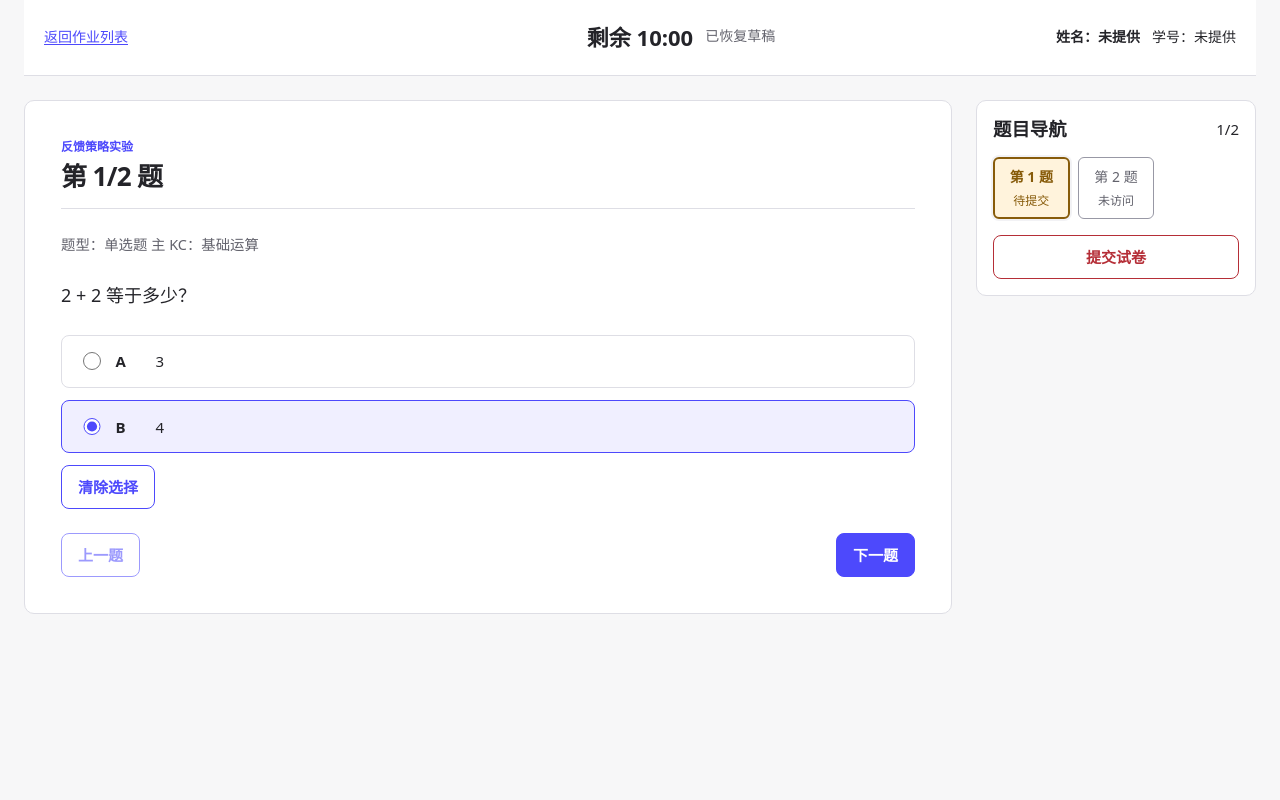
it: StudentAssessment › keeps the original navigation recoverable after its local pointer wait exceeds 60 seconds
Click the link "第 2 题 未访问". click: [1116, 188]
box: [1078,157,1154,219]
Wait 60000 ms
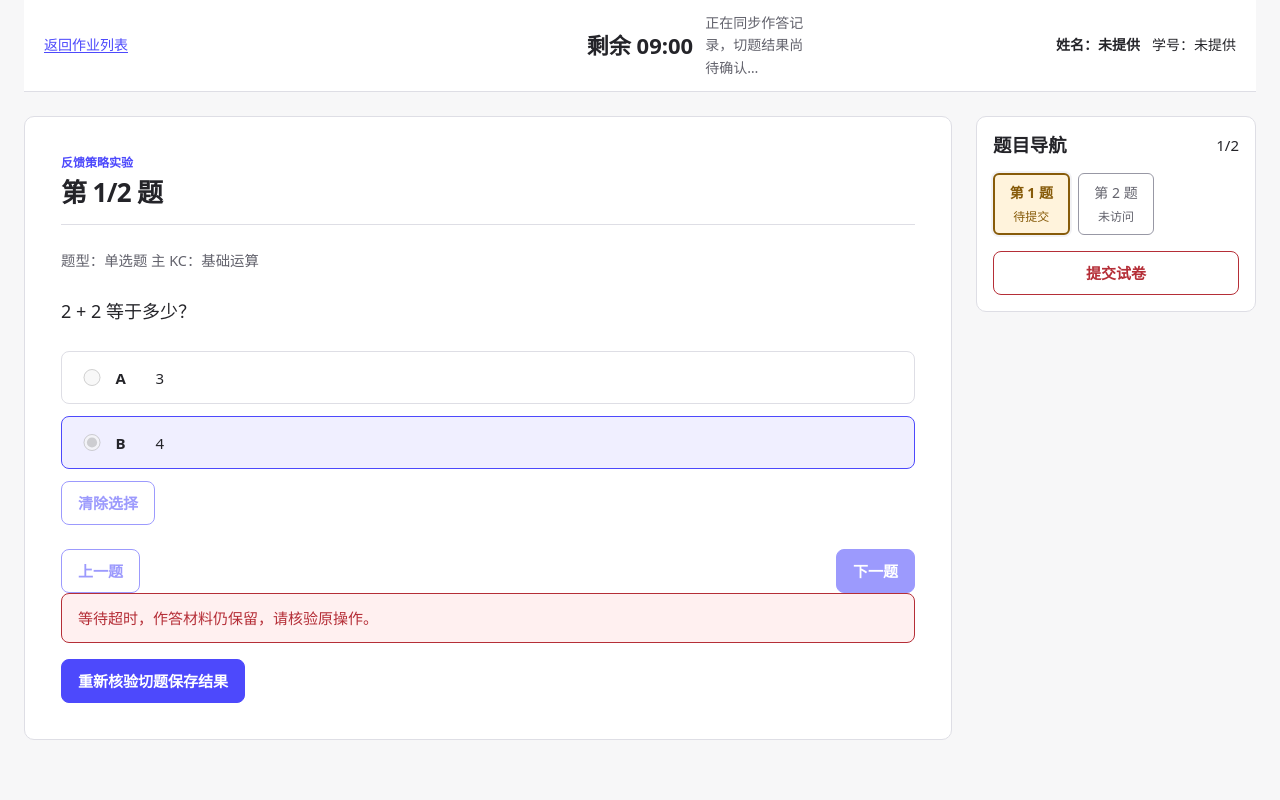
Now the button "重新核验切题保存结果" is shown, box [61,659,245,703]
Now the text "等待超时" is shown, box [78,608,378,628]
